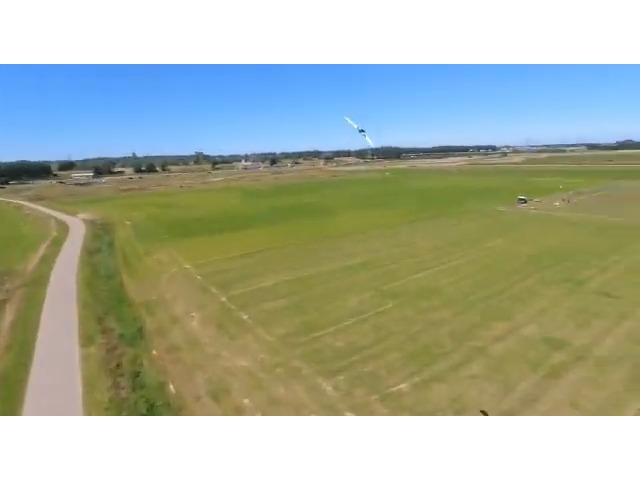Anti-Drone: (340, 108, 386, 158)
